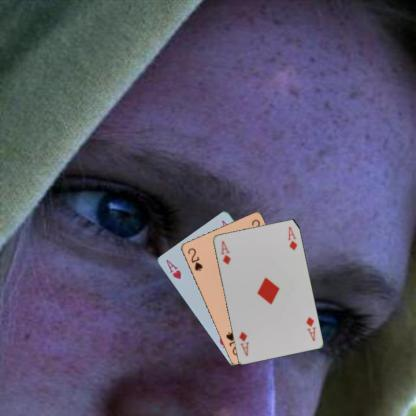2s: (185, 245, 203, 272)
Ad: (303, 314, 318, 342), (218, 238, 232, 266)
Ah: (163, 256, 183, 281)
